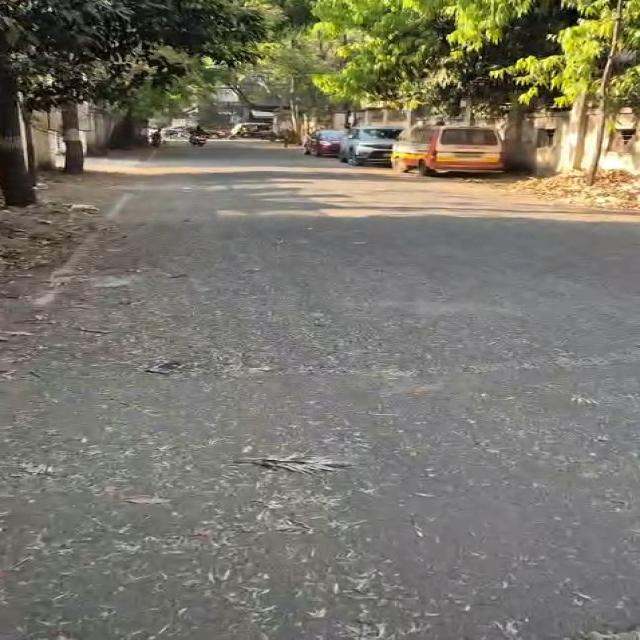obstacle: (586, 0, 623, 185)
vehicle: (391, 125, 504, 175), (339, 125, 403, 165), (304, 130, 345, 156), (229, 123, 273, 139)
